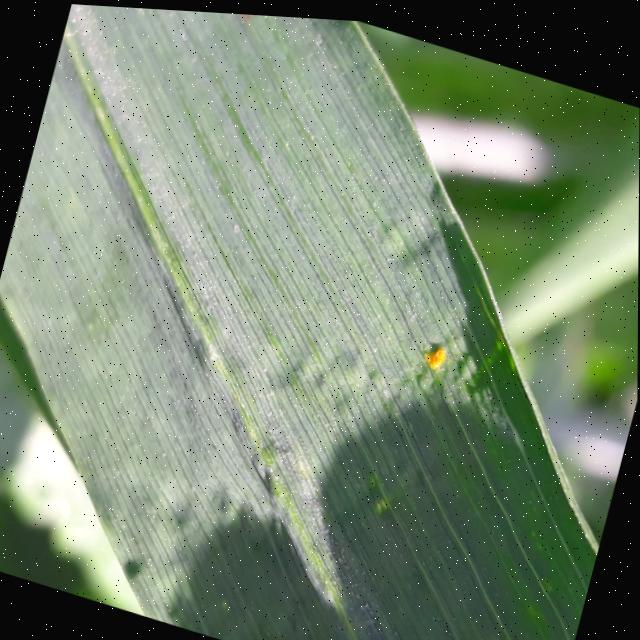orang_rust: (382, 297, 479, 385)
